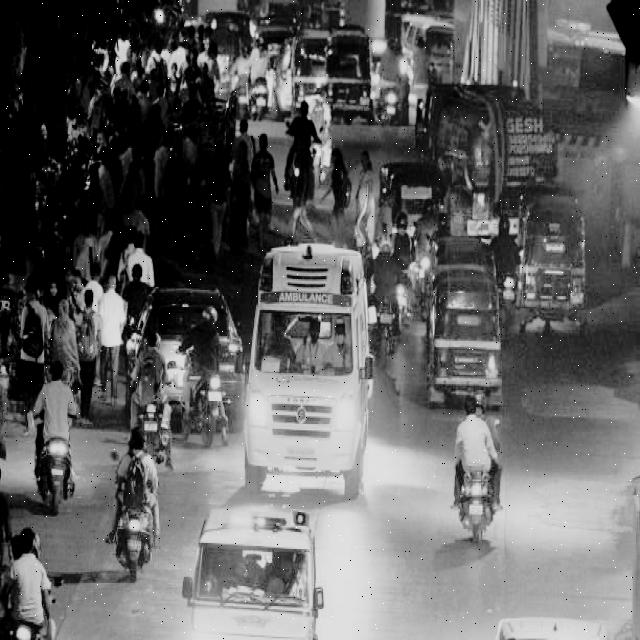Ambulance: (243, 245, 364, 490), (256, 279, 352, 315), (296, 248, 318, 264)
